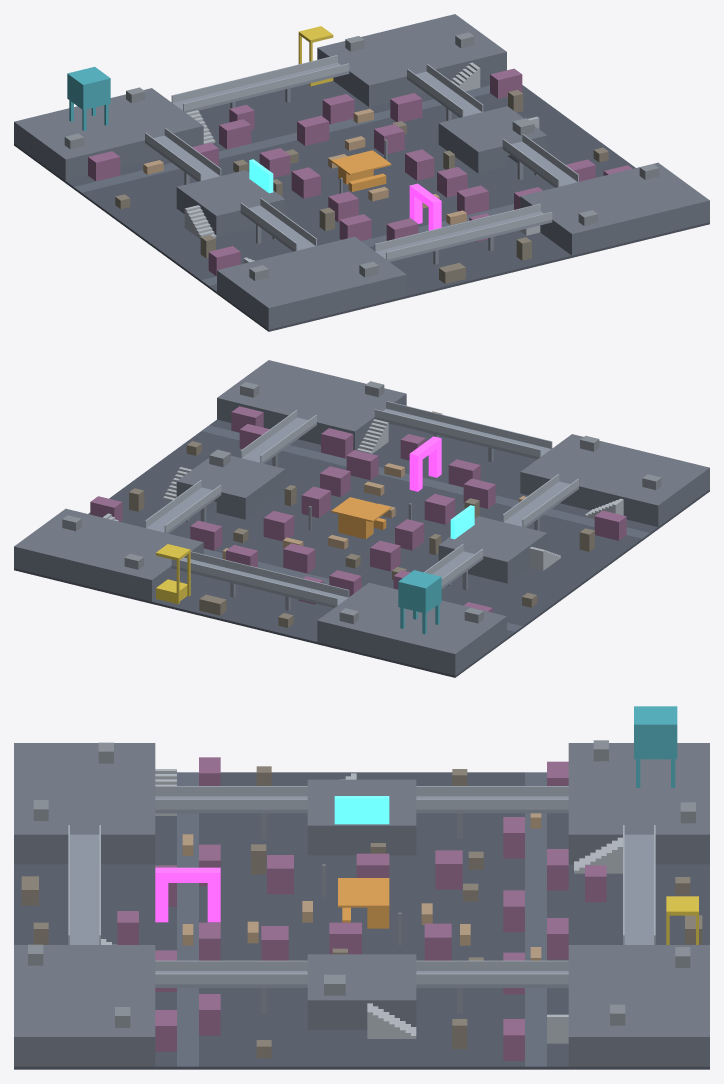
File: rooftop-market.glb
The picture shows the model from 3 angles, top to bottom: view 1: azimuth 30°, elevation 25°; view 2: azimuth 150°, elevation 25°; view 3: azimuth 270°, elevation 25°; orthographic projection. The views are drawn at different scales.
Visible parts, largest first — view 1: floor, block-sw, block-se, block-nw, block-ne, signal-house, hall-west, lane-a-strip, tower-tank, catwalk-south-rail-n, catwalk-north-rail-n, catwalk-north-rail-s (+35 smaller); view 2: floor, block-nw, block-ne, block-sw, block-se, signal-house, hall-west, lane-b-strip, tower-tank, catwalk-south-rail-n, catwalk-south-rail-s, catwalk-north-rail-n (+36 smaller); view 3: floor, block-ne, block-se, block-sw, block-nw, signal-house, lane-a-strip, lane-b-strip, hall-east, catwalk-north, catwalk-south, tower-tank (+36 smaller).
Part boxes in pixels (x1,y1,x2,y2): floor: (14,77,709,331); block-sw: (217,236,406,329); block-se: (520,162,709,255); block-nw: (14,88,203,180); block-ne: (317,14,506,106); signal-house: (176,170,285,237); hall-west: (438,116,507,173); lane-a-strip: (74,85,522,192); tower-tank: (67,66,110,110); catwalk-south-rail-n: (374,203,540,251); catwalk-north-rail-n: (171,55,337,102); catwalk-north-rail-s: (183,63,349,111); floor: (14,419,709,677); block-nw: (317,582,506,675); block-ne: (14,508,203,601); block-sw: (520,434,709,526); block-se: (217,360,406,450); signal-house: (438,516,547,583); hall-west: (216,462,285,519); lane-b-strip: (201,425,649,538); tower-tank: (398,570,441,613); catwalk-south-rail-n: (374,409,540,457); catwalk-south-rail-s: (386,401,552,448); catwalk-north-rail-n: (171,559,337,605); floor: (14,772,709,1069); block-ne: (568,945,709,1066); block-se: (14,945,155,1066); block-sw: (14,743,155,864); block-nw: (568,743,709,864); signal-house: (307,779,416,855); lane-a-strip: (525,772,546,1066); lane-b-strip: (177,772,198,1066); hall-east: (307,981,416,1029); catwalk-north: (624,834,653,944); catwalk-south: (70,834,99,944); tower-tank: (634,706,677,759).
Bounding box in the file's own units: 64 × 9.8 × 64.
